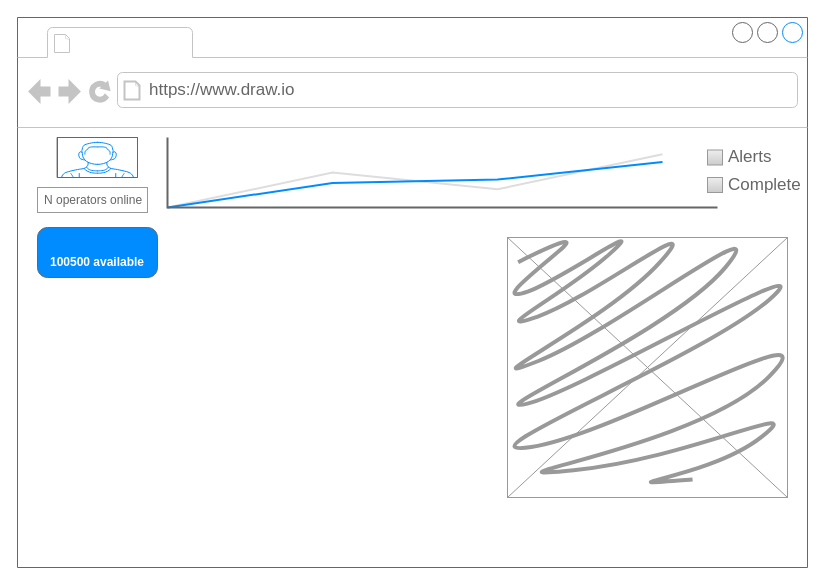
Some shapes in this 825 by 585 pixel diagram are drawn without their labels. Here are the shapes that lost their labels. From the top down, the box of each, then its label:
(76, 28, 188, 56): Page 1
(36, 234, 158, 256): Get alert
